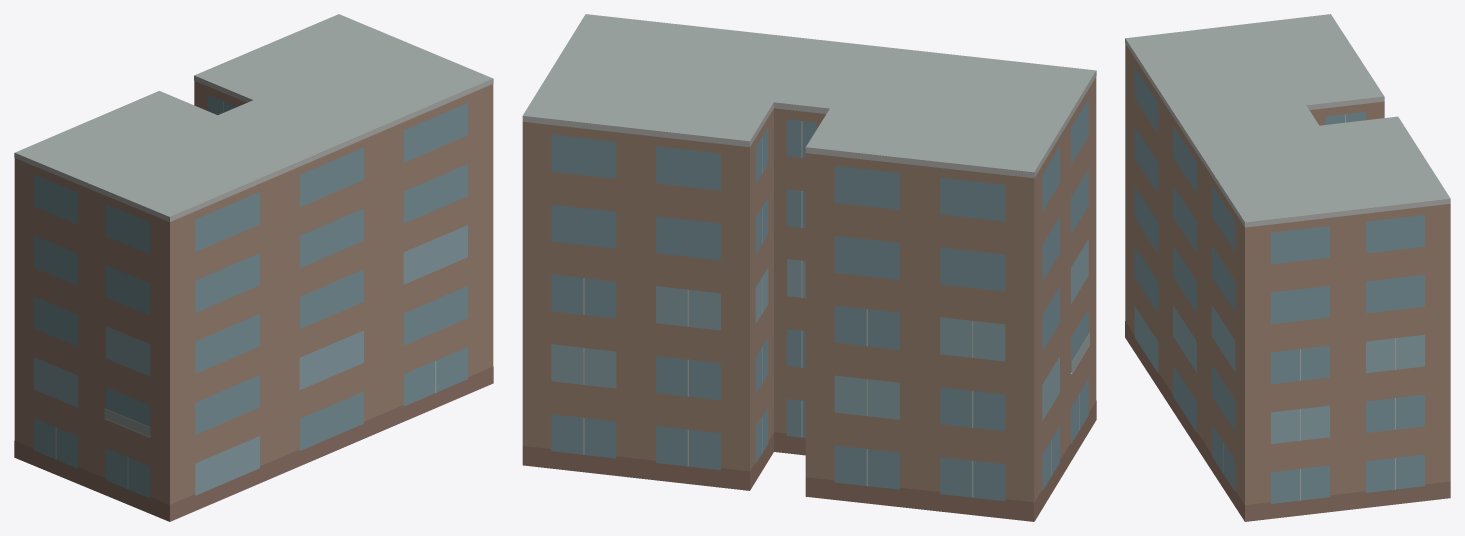
The model's file is survey-upis-32972803.glb.
The picture shows the model from 3 angles, left to right: view 1: azimuth 30°, elevation 25°; view 2: azimuth 150°, elevation 25°; view 3: azimuth 270°, elevation 25°; orthographic projection. The views are drawn at different scales.
Parts seen in each view (by area): view 1: survey-upis-32972803.tmp; view 2: survey-upis-32972803.tmp; view 3: survey-upis-32972803.tmp.
Boxes of the visible parts, left/top/right/bottom form: survey-upis-32972803.tmp: left=14, top=14, right=493, bottom=521; survey-upis-32972803.tmp: left=522, top=14, right=1096, bottom=521; survey-upis-32972803.tmp: left=1125, top=14, right=1450, bottom=521.
Bounding box in the file's own units: 21.52 × 14.4 × 14.2.
